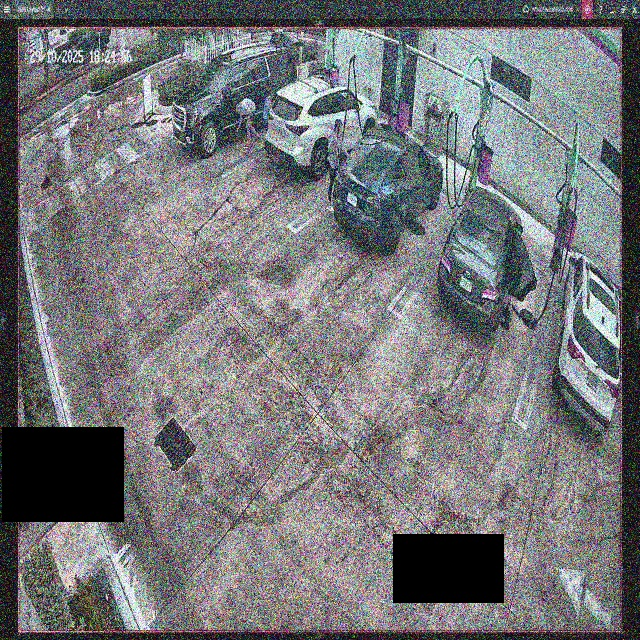Car: (337, 123, 442, 247), (439, 191, 534, 328), (267, 77, 380, 172)
